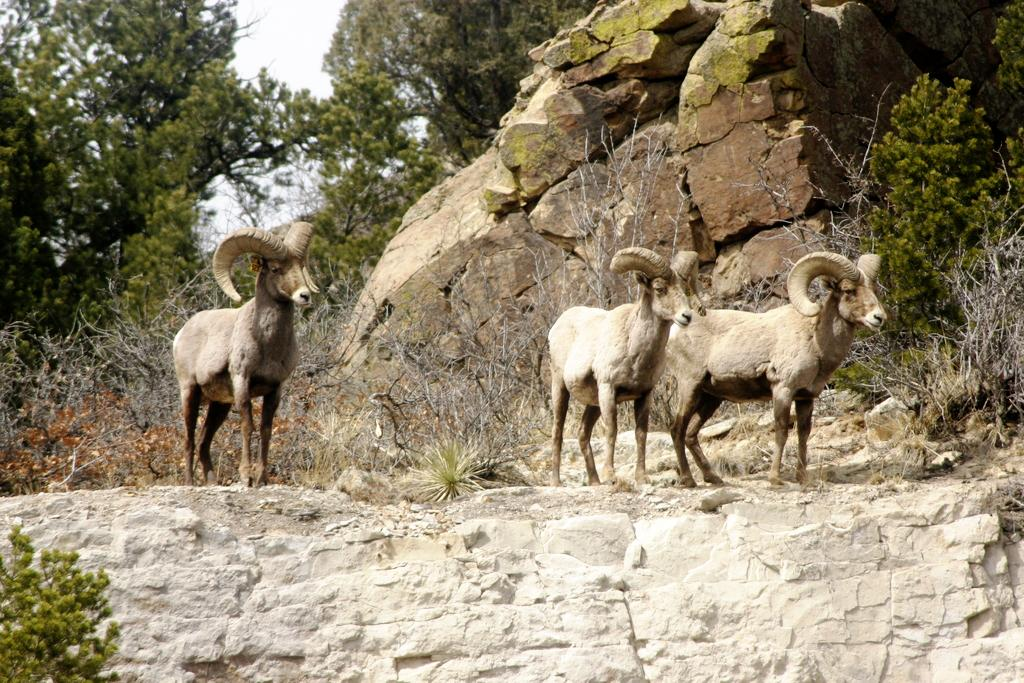Sheep: (663, 252, 888, 485), (174, 223, 320, 486), (548, 247, 707, 486)
